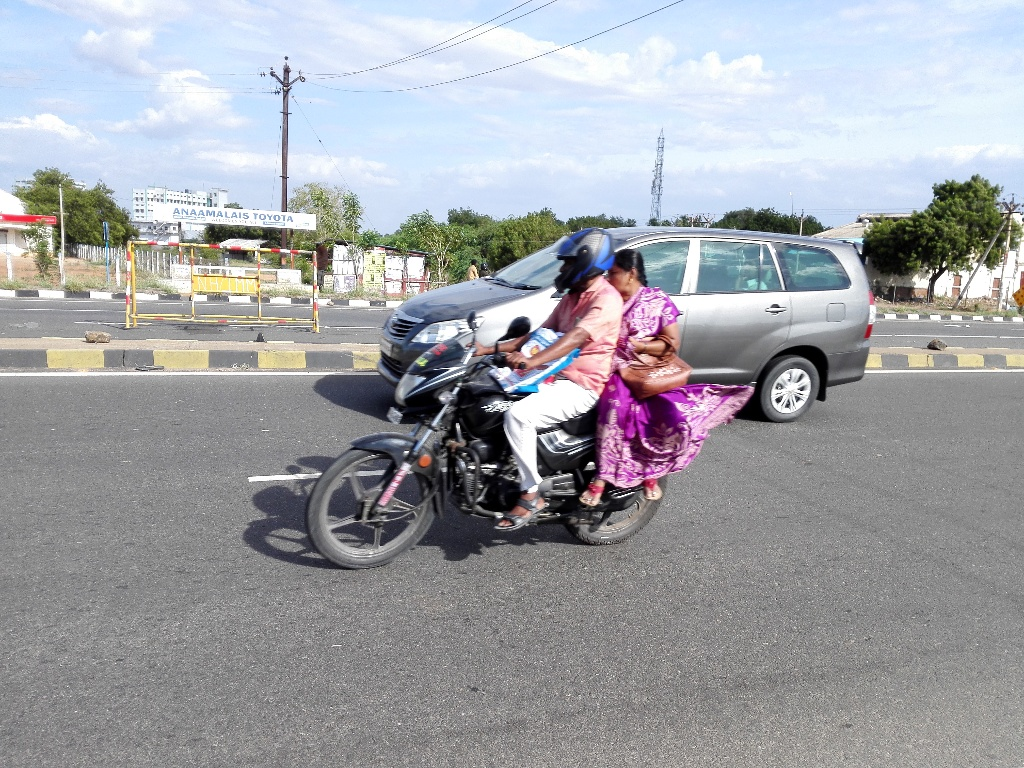biker: (290, 168, 749, 586)
helmet: (547, 220, 613, 305)
nohelmet: (610, 238, 657, 303)
